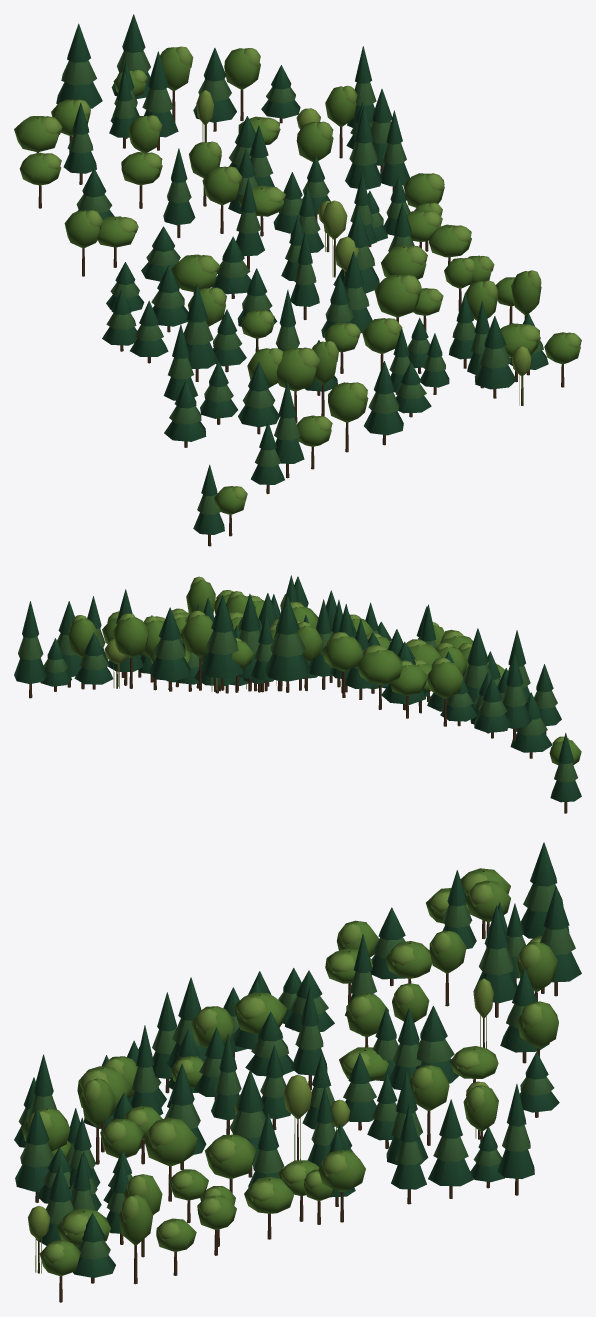
File: forest_7_3.dae
3 views of the same model, one above another, from view 1: azimuth 30°, elevation 25°; view 2: azimuth 150°, elevation 25°; view 3: azimuth 270°, elevation 25° (orthographic). The views are drawn at different scales.
Parts seen in each view (by area): view 1: forest_7_3; view 2: forest_7_3; view 3: forest_7_3.
Part boxes in pixels (bbox=[...]): forest_7_3: bbox=[14, 14, 581, 546]; forest_7_3: bbox=[14, 575, 581, 813]; forest_7_3: bbox=[14, 842, 581, 1302].
Bounding box in the file's own units: 115 × 129 × 100.
